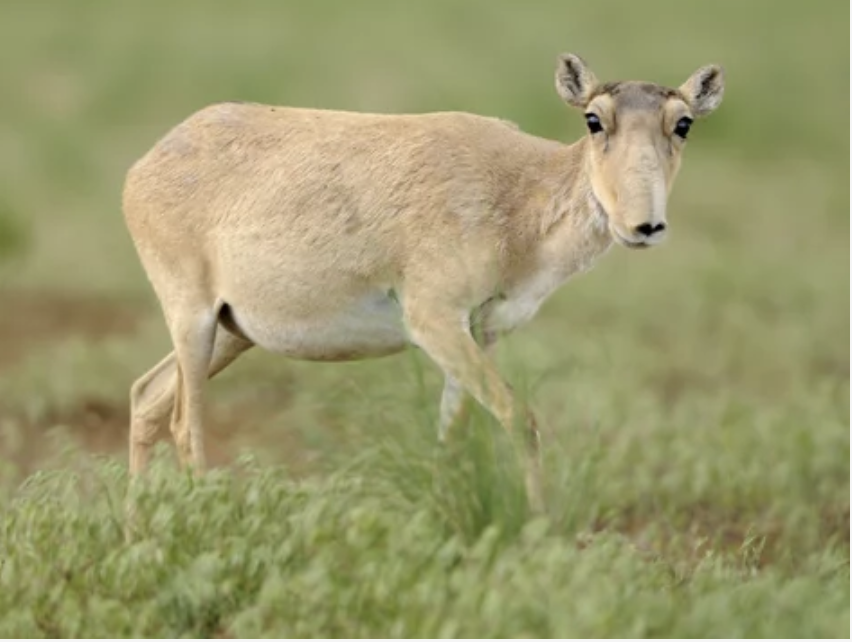saiga: (114, 58, 711, 504)
